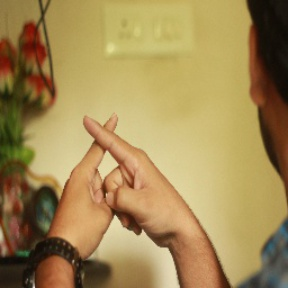X: (56, 107, 163, 216)
